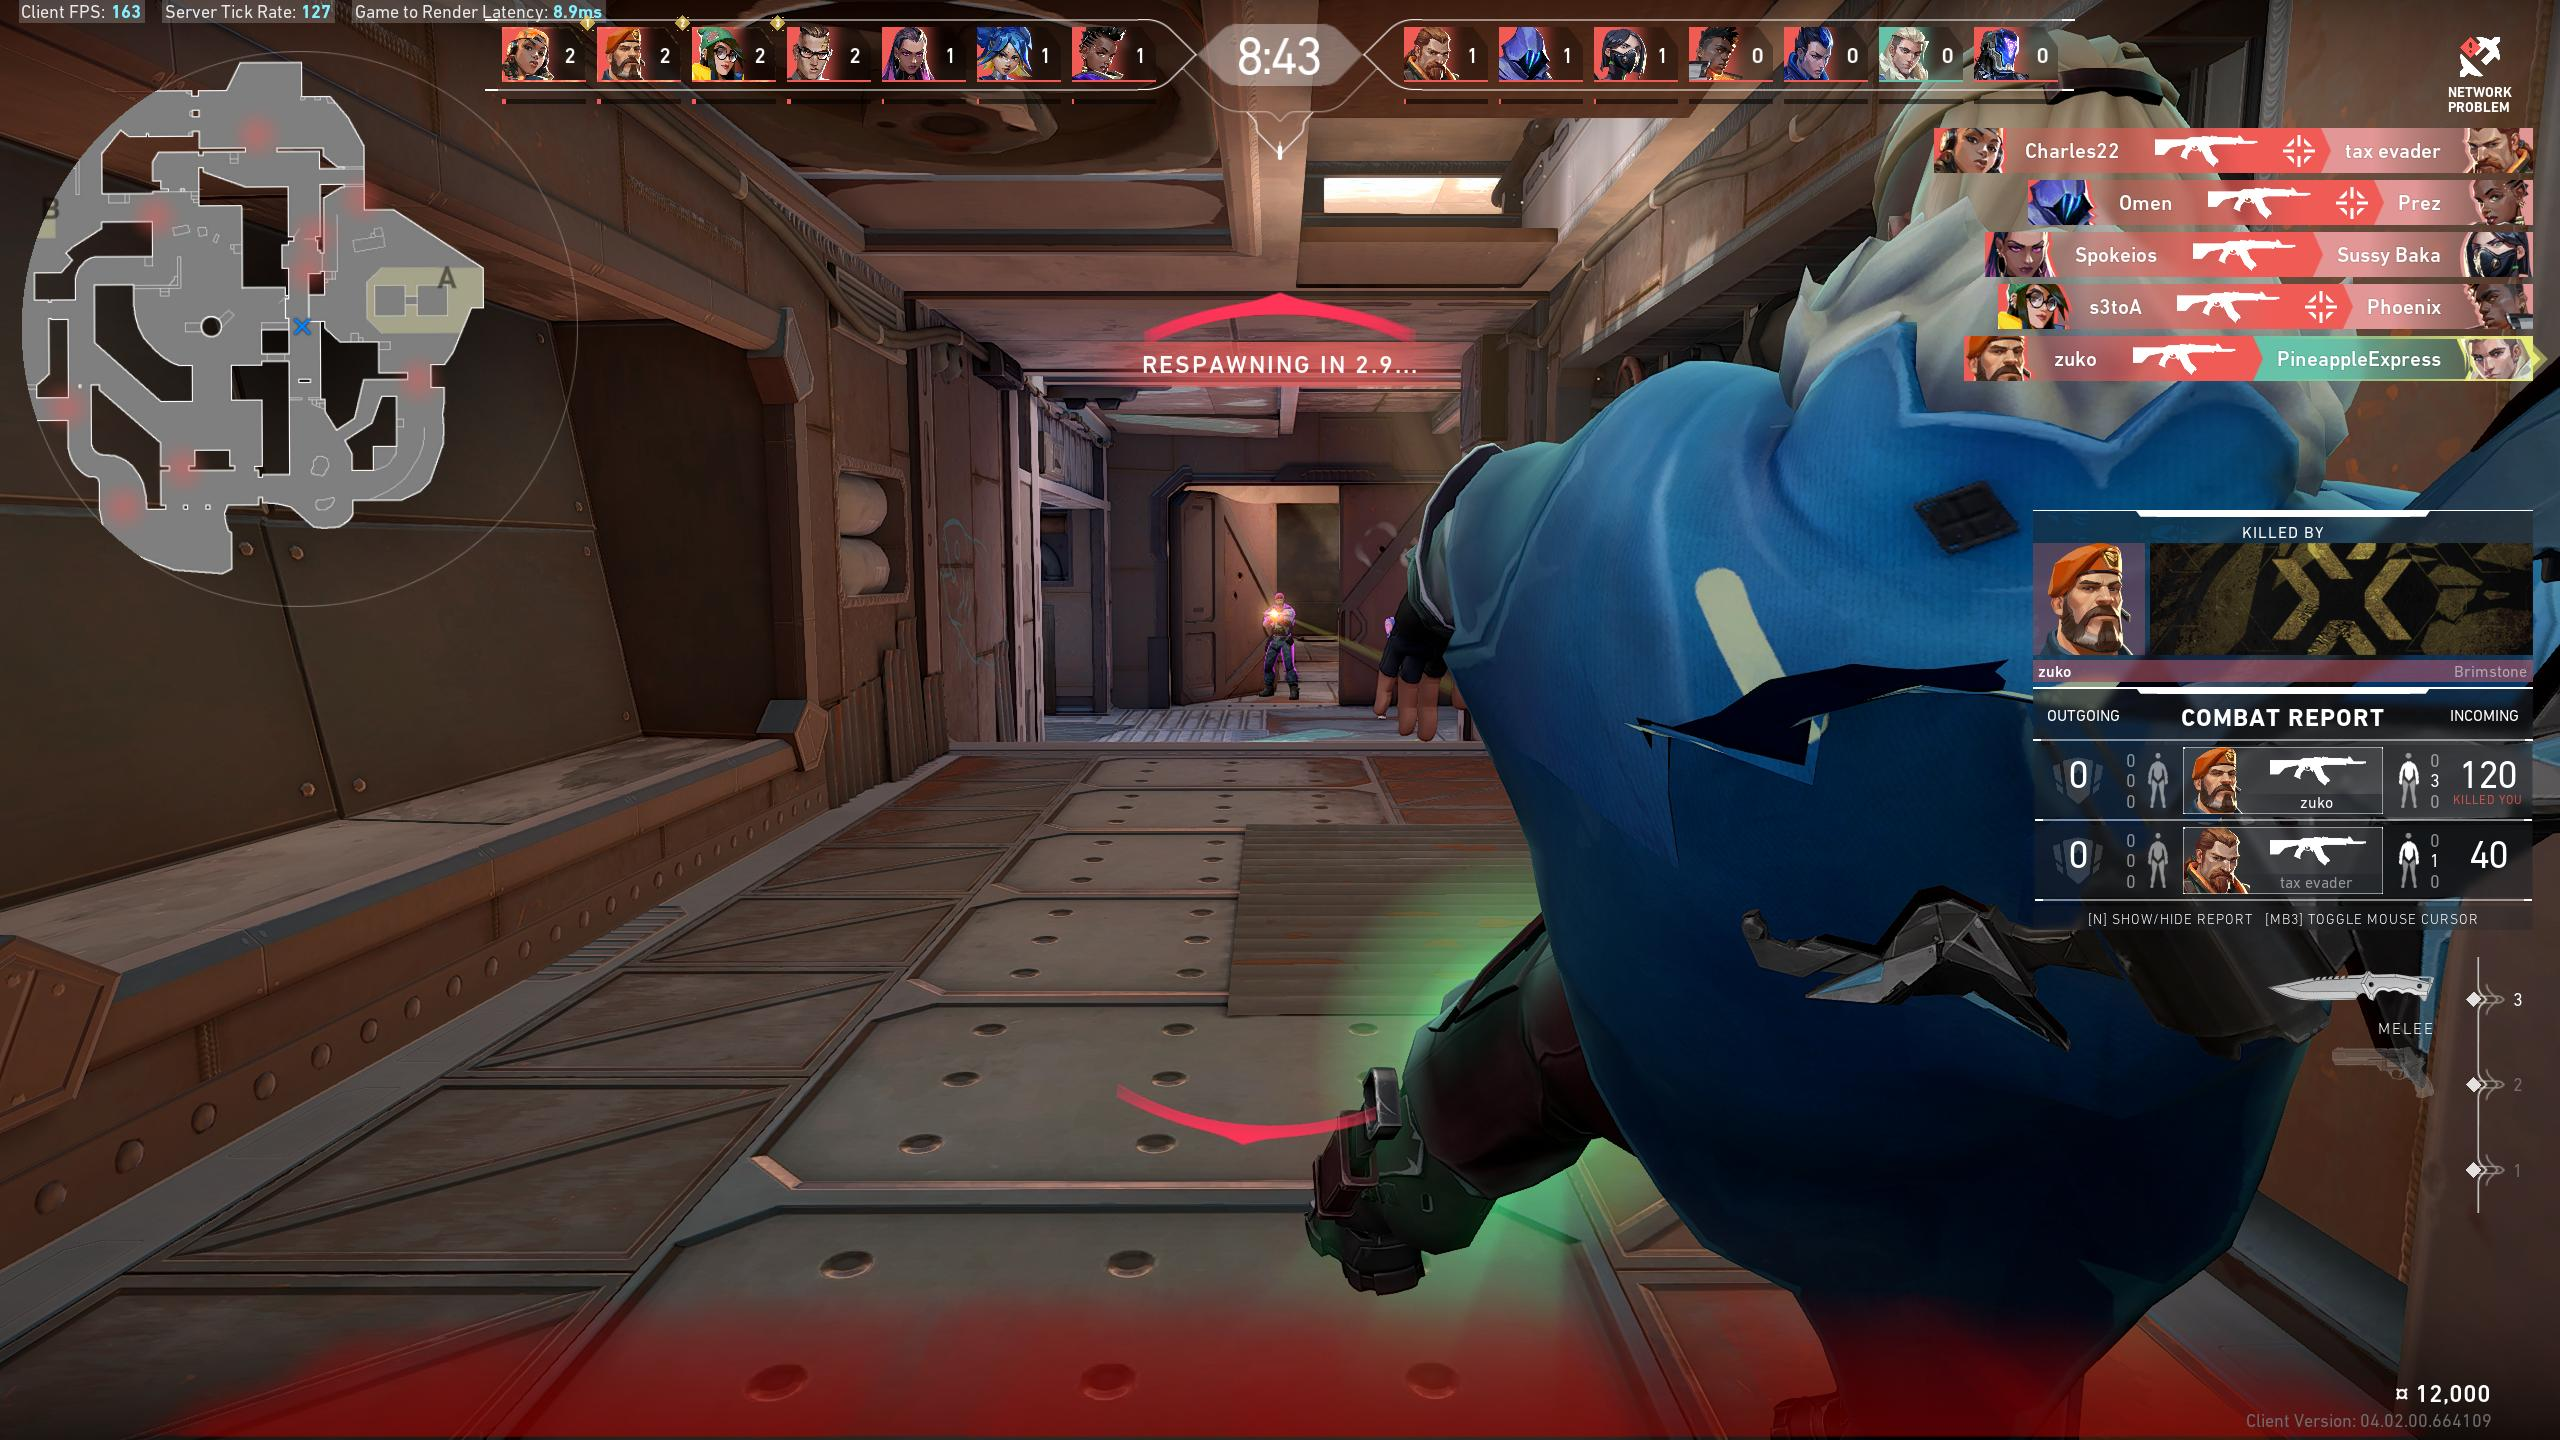enemyBody: (1273, 608, 1285, 635)
enemyHead: (1276, 596, 1284, 605)
